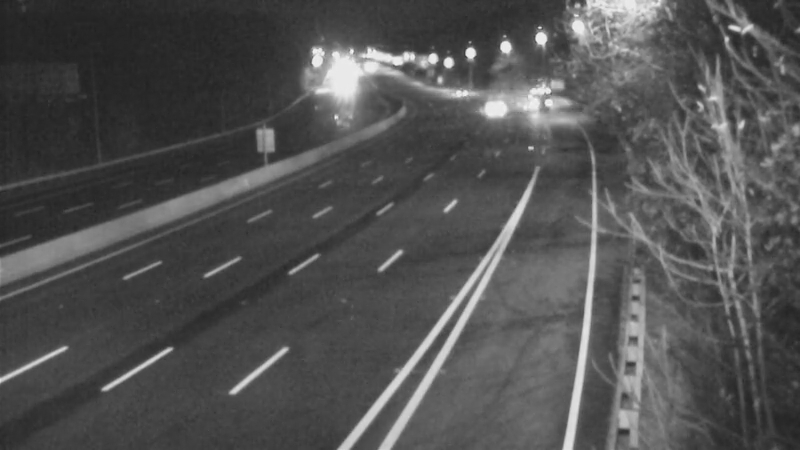vehicle: (435, 67, 485, 117), (510, 71, 560, 121), (466, 82, 516, 132)
